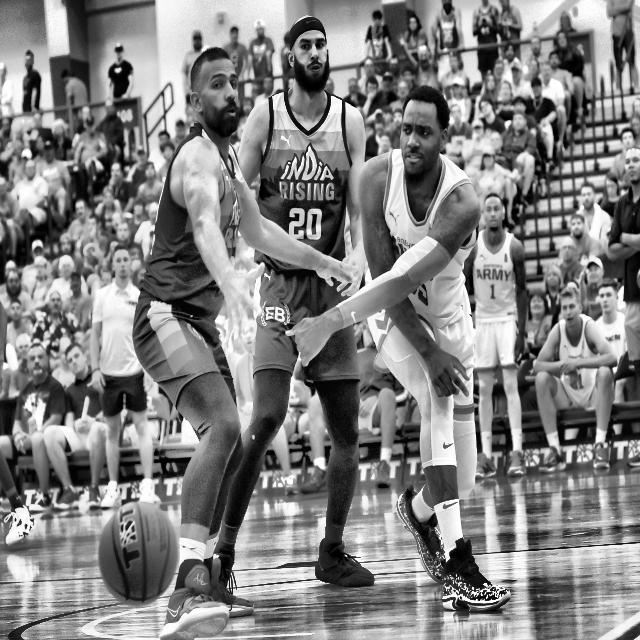Basketball: (98, 502, 177, 605)
